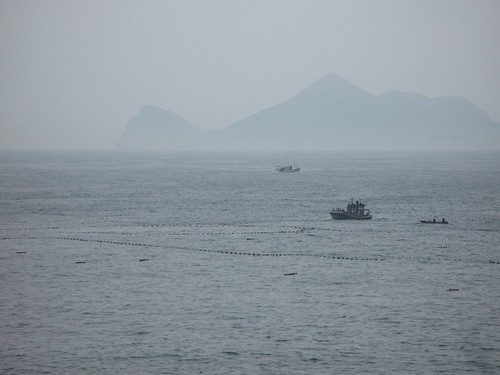turtleIslandLeft: (115, 73, 500, 155)
